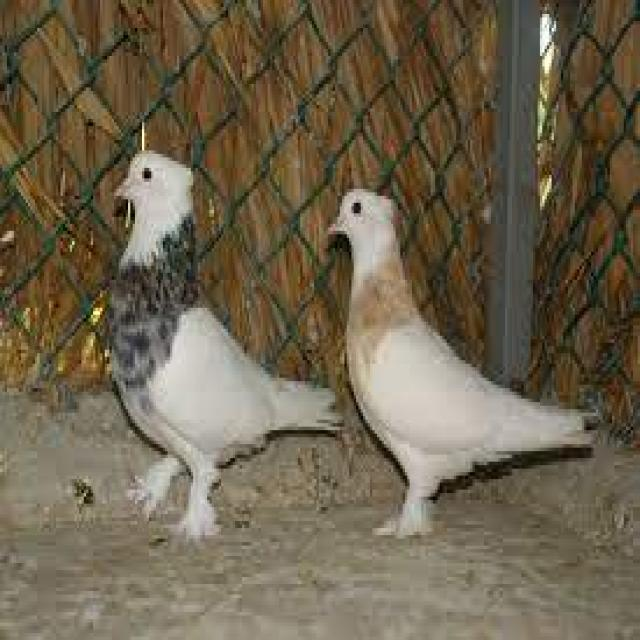bird: (321, 165, 606, 540), (98, 138, 342, 543)
